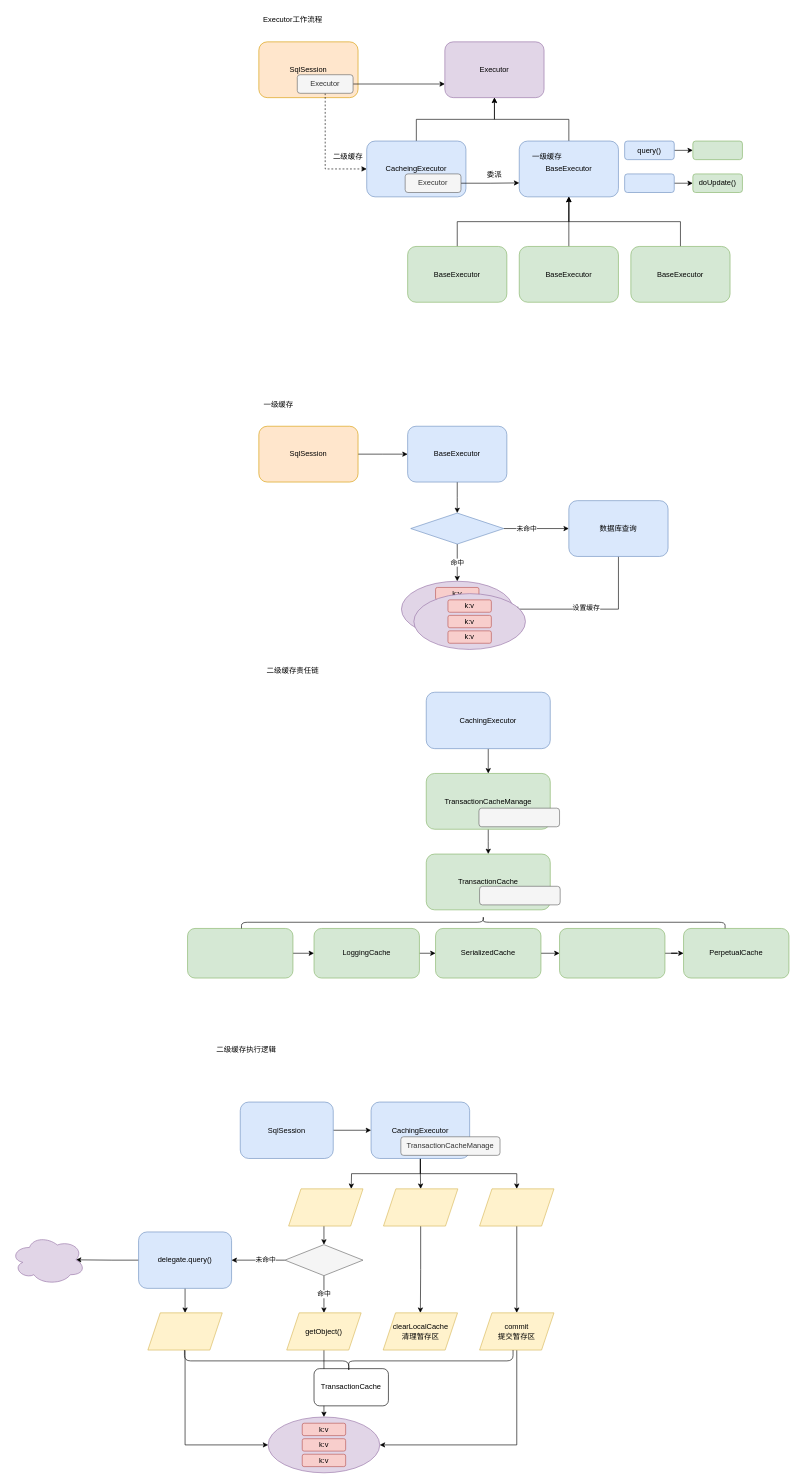
The diagram is 800 pixels wide and 1484 high, and some of its shapes have lost their labels. Here are the shapes that lost their labels. From the top down, the centre of each, then its label:
At [717,150]: "doQuery()".
At [649,183]: "update()".
At [457,528]: "缓存是否命中".
At [519,817]: "transactionCaches".
At [519,895]: "cache".
At [240,953]: "SynchronizationCache".
At [612,953]: "LruCache".
At [325,1207]: "query".
At [420,1207]: "update".
At [516,1207]: "commit".
At [47,1259]: "DB".
At [323,1260]: "缓存命中".
At [184,1331]: "setObject 填充到暂存区".
